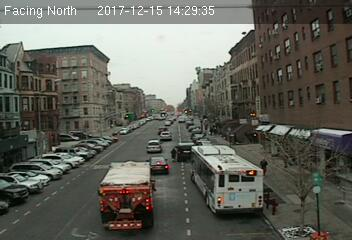bus: (189, 144, 263, 219)
car: (149, 155, 169, 172), (146, 139, 162, 151), (159, 131, 172, 140)
truck: (96, 160, 155, 228)
